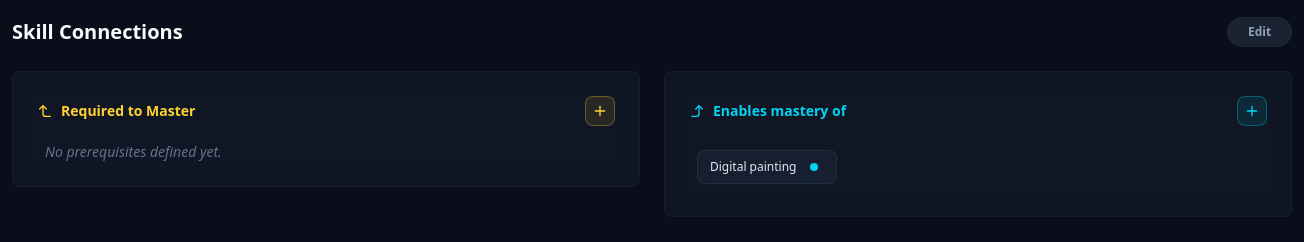
Test: SkillLinksSection › Editing skills links › exits edit mode when 'Done' is clicked
Check: the link "Digital painting" is shown, box top-left (710, 159), bottom-right (796, 175)
Click the button "Edit" at (1260, 32), box top-left (1227, 17), bottom-right (1292, 47)
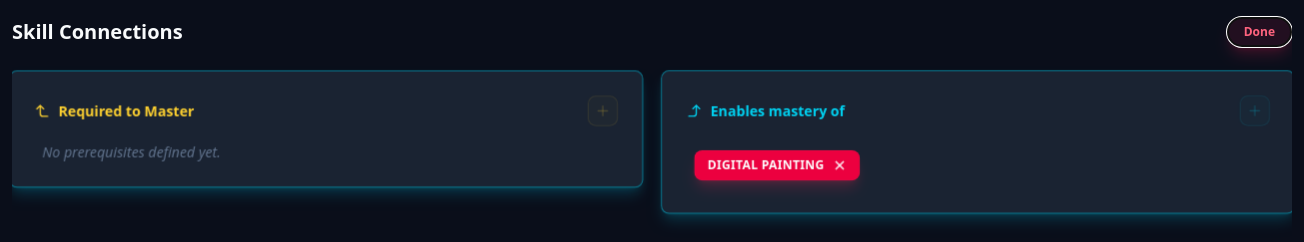
Check: the button with aria-label "remove link to digital painting" is shown, box top-left (694, 150), bottom-right (860, 180)
Check: the button "Done" is shown
Click the button "Done" at (1259, 32), box top-left (1227, 17), bottom-right (1292, 47)
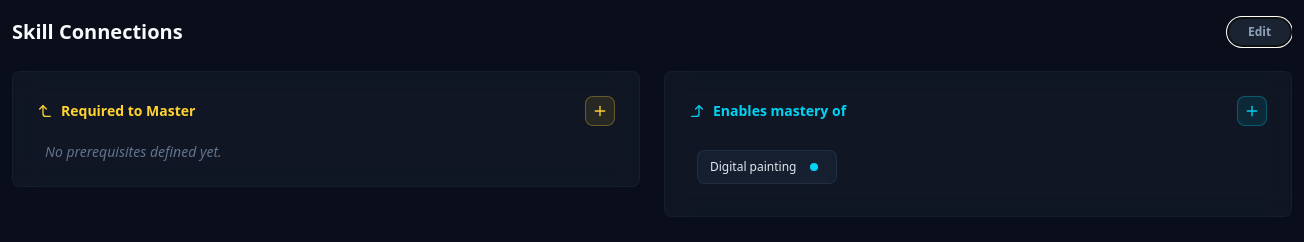
Check: the link "Digital painting" is shown, box top-left (710, 159), bottom-right (796, 175)
Check: the button "Done" is gone
